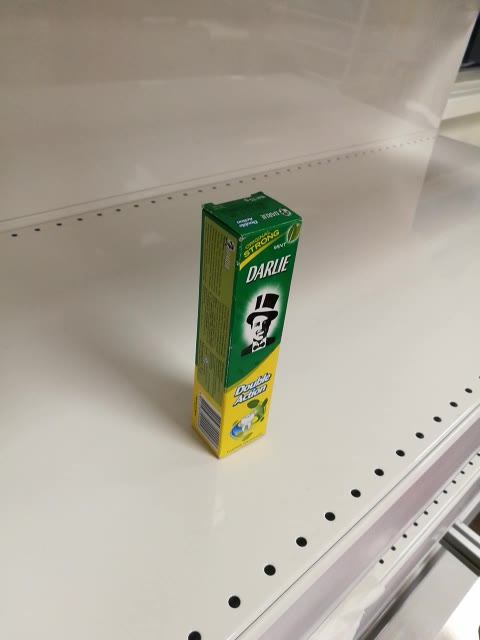toothpaste: (189, 190, 304, 462)
